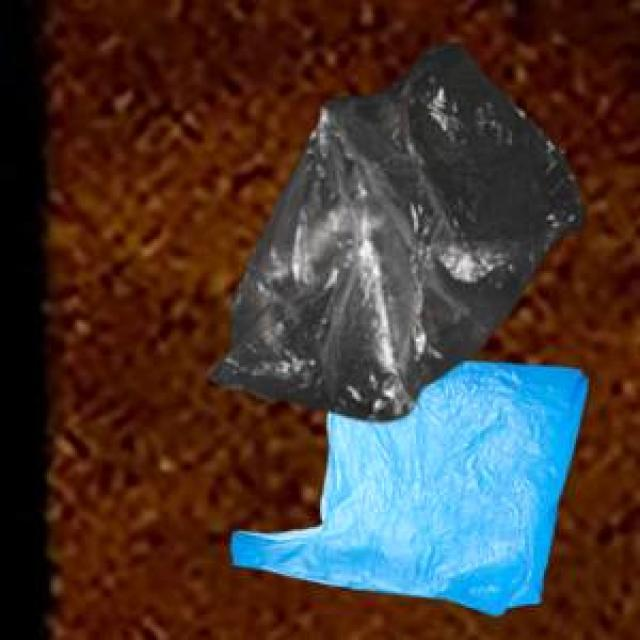Plastic_Bag: (204, 39, 582, 420), (229, 358, 586, 612)
